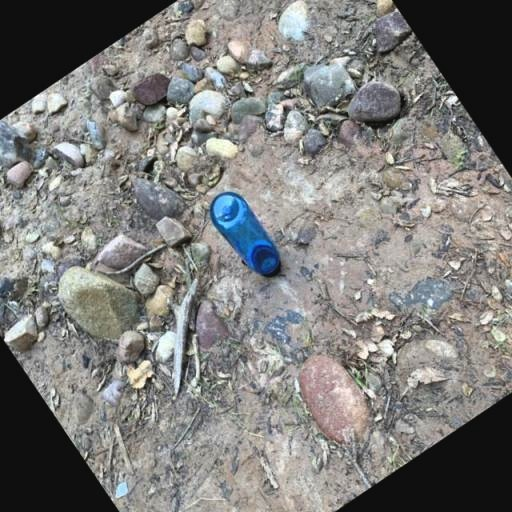bottle: (202, 184, 291, 289)
